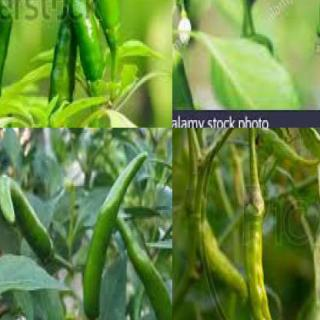green_chilli: (82, 146, 150, 320), (25, 0, 107, 80), (115, 221, 172, 319), (0, 169, 55, 269), (195, 216, 250, 312), (242, 200, 282, 319), (48, 0, 80, 104), (172, 50, 198, 111), (86, 0, 123, 38), (0, 17, 15, 104)
